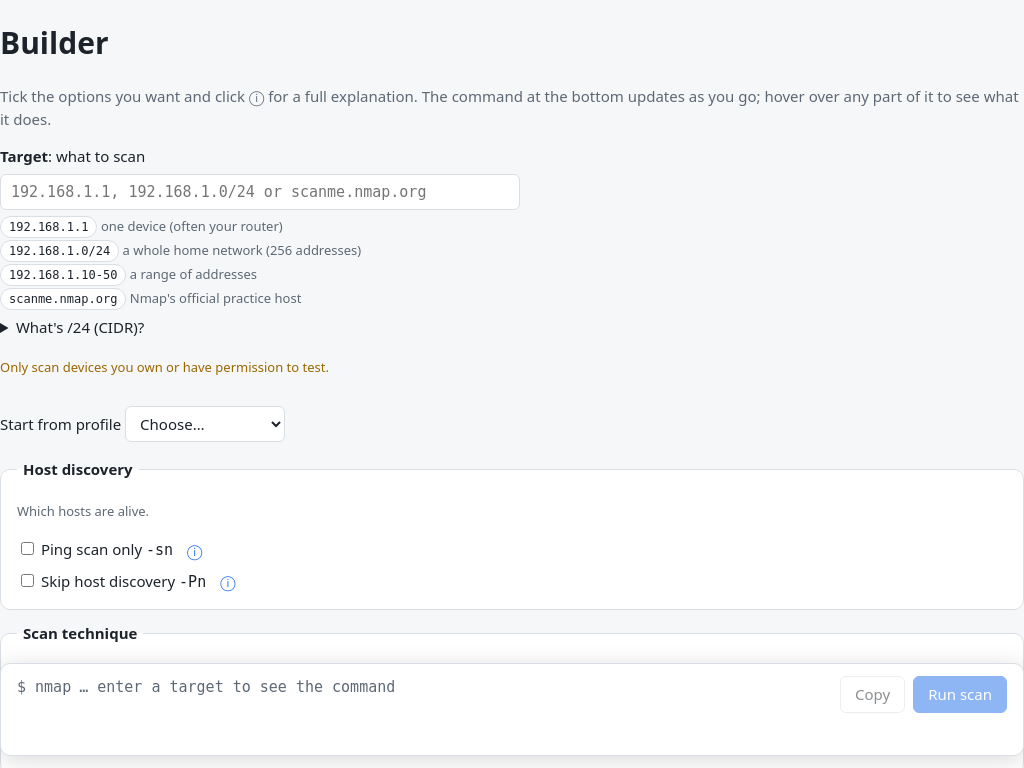
busy scanner shows a link to the running scan
In the field labelled "Target: what to scan": (260, 192) [0,174,520,210], type "10.0.0.1"
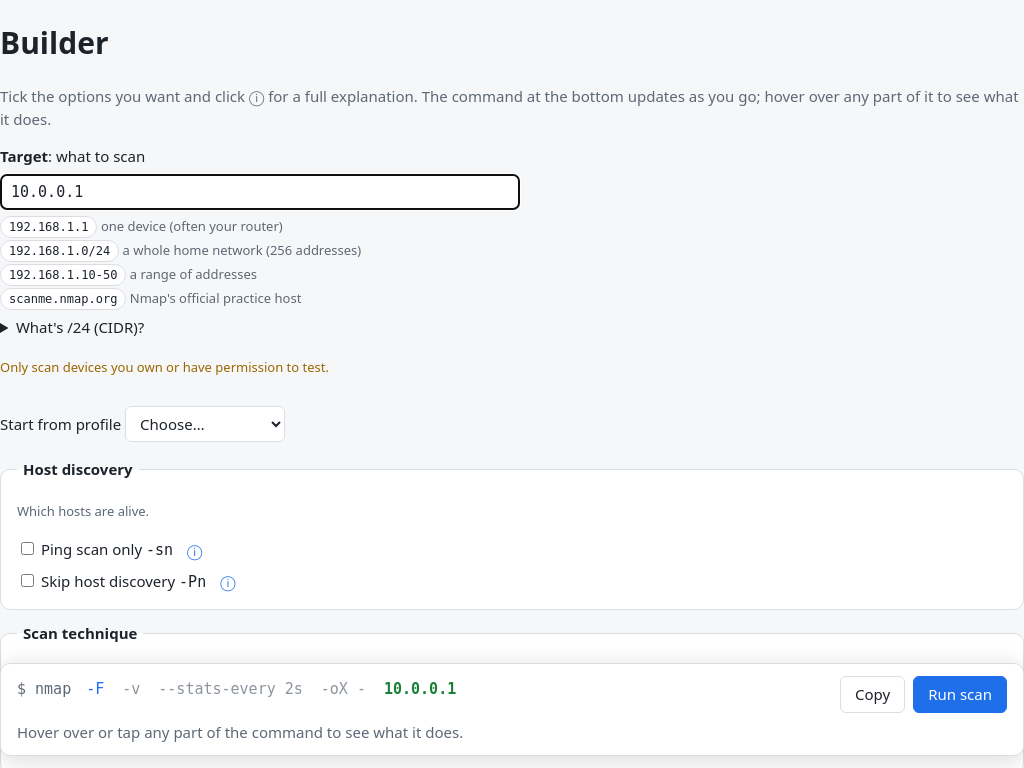
Now the button "Run scan" is enabled
Click the button "Run scan": (960, 694) [913,676,1007,712]
(page scrolled)
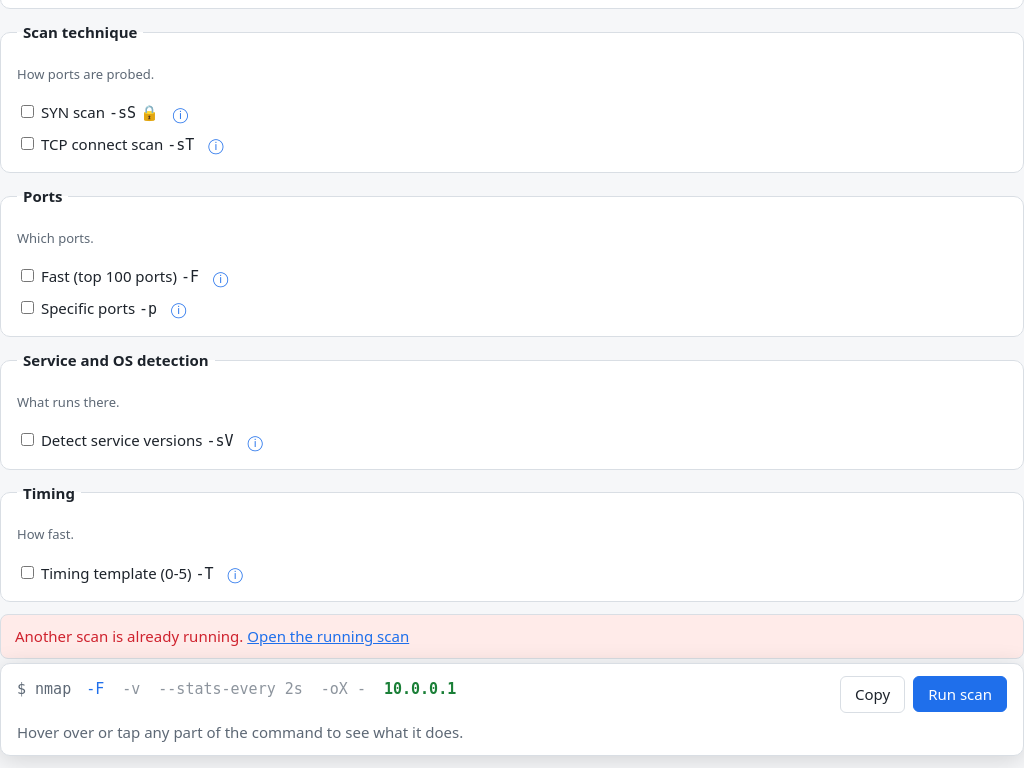
Now the message shows "Another scan is already running.", box [15,626,243,646]
